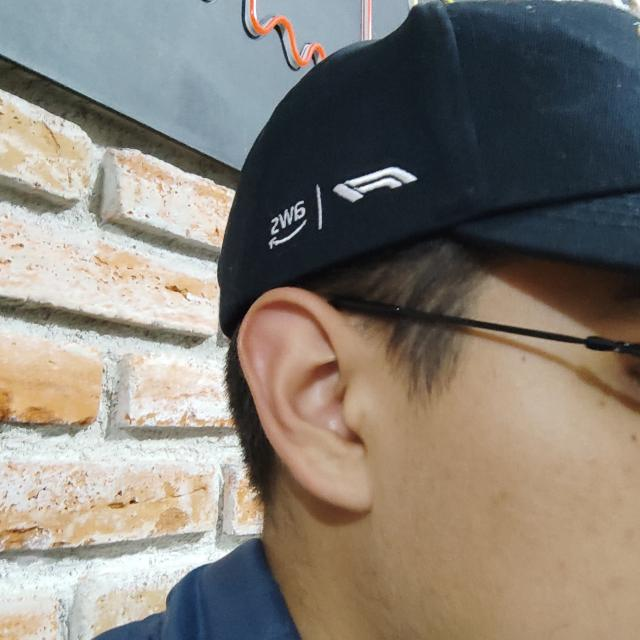ear: (238, 288, 371, 512)
